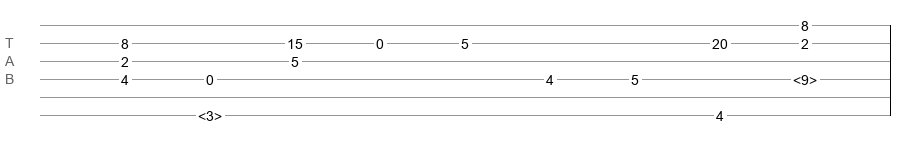0: (206, 72, 214, 82), (376, 36, 384, 46)
15: (287, 36, 303, 46)
2: (121, 54, 129, 64), (801, 36, 809, 46)
20: (712, 36, 728, 46)
4: (121, 72, 129, 82), (546, 72, 554, 82), (716, 108, 724, 118)
5: (291, 54, 299, 64), (461, 36, 469, 46), (631, 72, 639, 82)
8: (121, 36, 129, 46), (801, 18, 809, 28)
harmonic: (198, 108, 222, 118), (793, 72, 817, 82)
